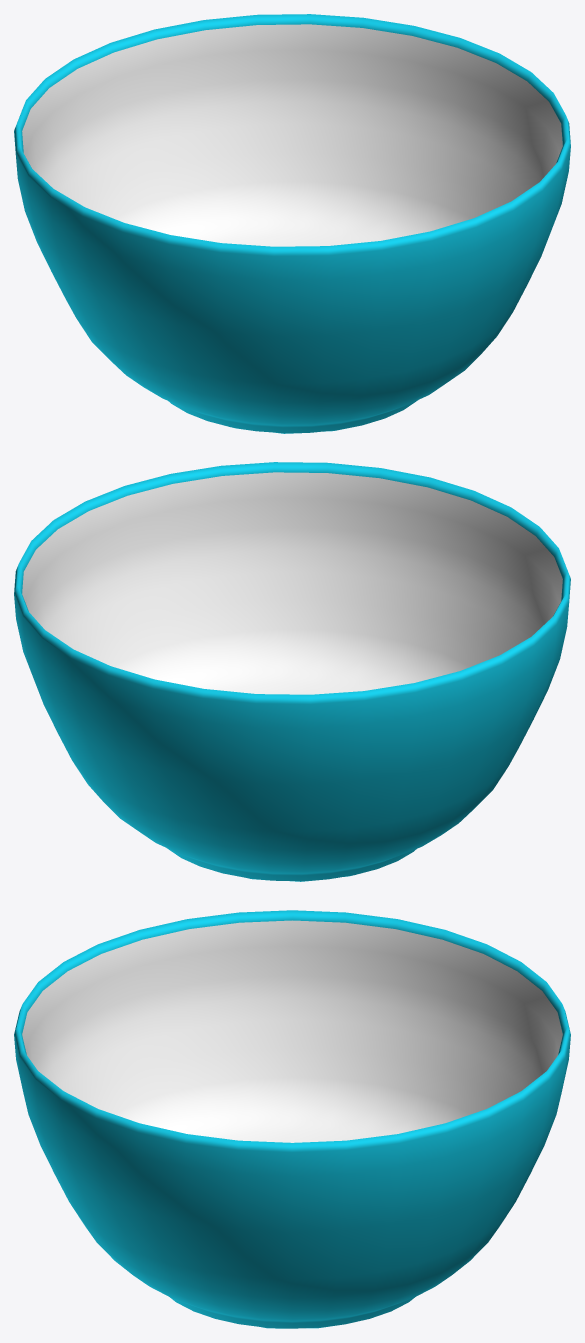
Rendered from BlueBowl.fbx.
3 views of the same model, one above another, from view 1: azimuth 30°, elevation 25°; view 2: azimuth 150°, elevation 25°; view 3: azimuth 270°, elevation 25° (orthographic).
Parts seen in each view (by area): view 1: MixingBowl1; view 2: MixingBowl1; view 3: MixingBowl1.
Boxes of the visible parts, x1,y1,x2,y2 form: MixingBowl1: (14,14,570,433); MixingBowl1: (14,462,570,881); MixingBowl1: (14,910,570,1328).
Size of the model in its own units: 12.15 by 6.03 by 12.15.
1 material, 1 textured.
